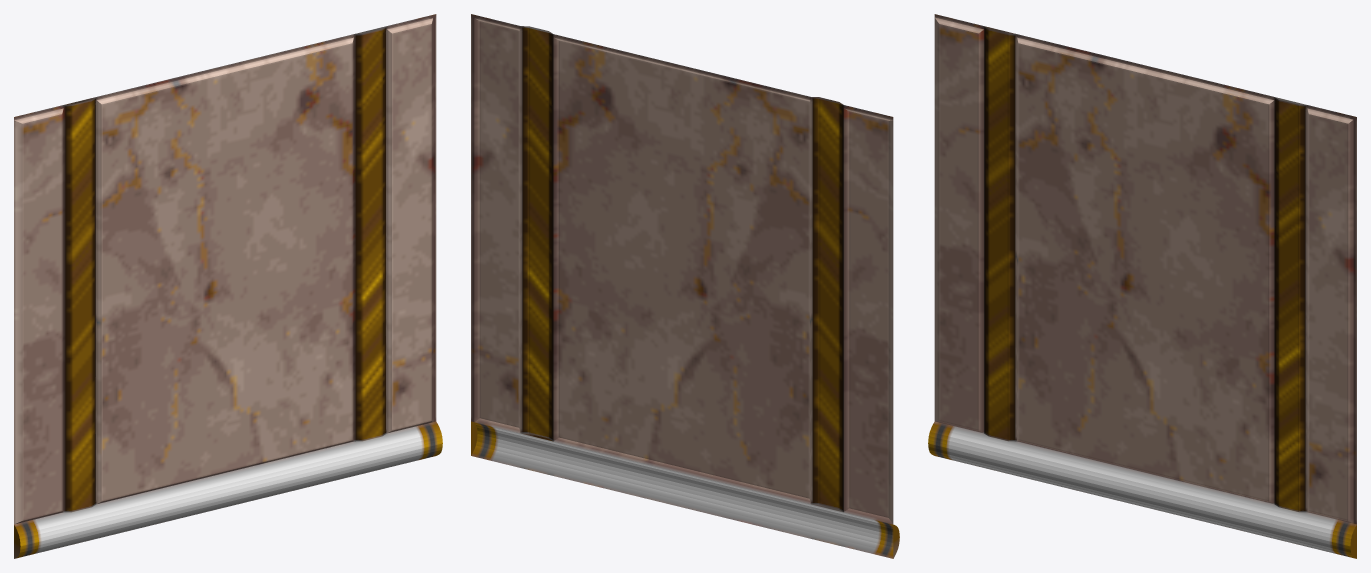
File: exec4_6.fbx
The picture shows the model from 3 angles, left to right: view 1: azimuth 30°, elevation 25°; view 2: azimuth 150°, elevation 25°; view 3: azimuth 330°, elevation 25°; orthographic projection.
Parts seen in each view (by area): view 1: exec4_6_mesh; view 2: exec4_6_mesh; view 3: exec4_6_mesh.
Boxes of the visible parts, left/top/right/bottom form: exec4_6_mesh: left=14, top=14, right=442, bottom=558; exec4_6_mesh: left=471, top=14, right=899, bottom=558; exec4_6_mesh: left=928, top=14, right=1356, bottom=558.
Size of the model in its own units: 256 by 256 by 6.75.
